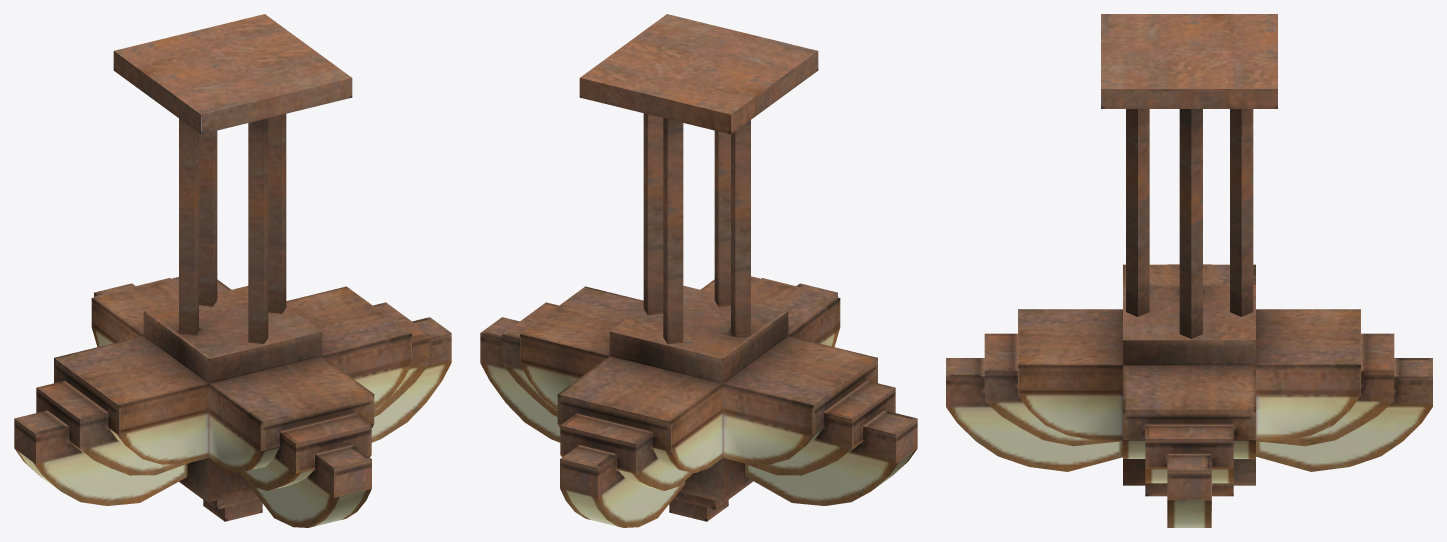
Rendered from light_ceiling.obj.
3 renders of one model, left to right at view 1: azimuth 30°, elevation 25°; view 2: azimuth 150°, elevation 25°; view 3: azimuth 270°, elevation 25°, orthographic.
Parts seen in each view (by area): view 1: light_ceiling; view 2: light_ceiling; view 3: light_ceiling.
Part boxes in pixels (x1,y1,x2,y2): light_ceiling: (14,14,451,527); light_ceiling: (480,14,917,527); light_ceiling: (946,14,1432,527).
Bounding box in the file's own units: 88 × 90 × 88.
1 material, 1 textured.
